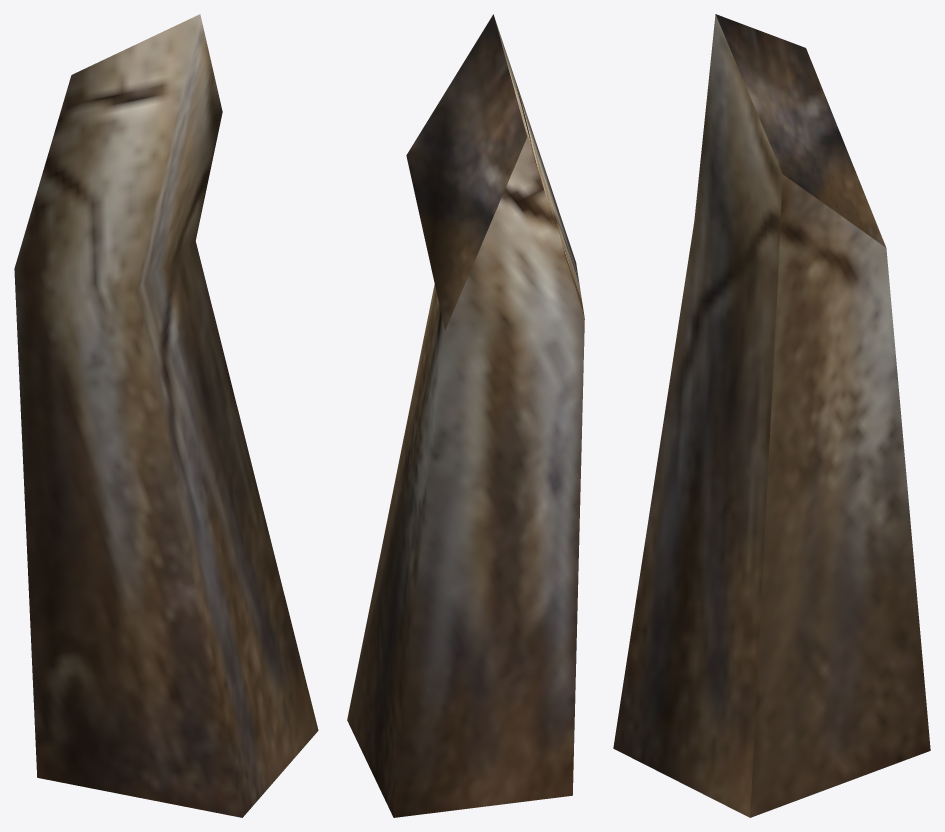
The model's file is D_baigu007.fbx.
The picture shows the model from 3 angles, left to right: view 1: azimuth 30°, elevation 25°; view 2: azimuth 150°, elevation 25°; view 3: azimuth 270°, elevation 25°; orthographic projection. The views are drawn at different scales.
Visible parts, largest first — view 1: D_baigu007; view 2: D_baigu007; view 3: D_baigu007.
Boxes of the visible parts, box(x1,y1,x2,y2) form: D_baigu007: box(14, 14, 318, 817); D_baigu007: box(347, 14, 584, 817); D_baigu007: box(613, 14, 930, 817).
Bounding box in the file's own units: 51.45 × 135 × 52.65.
